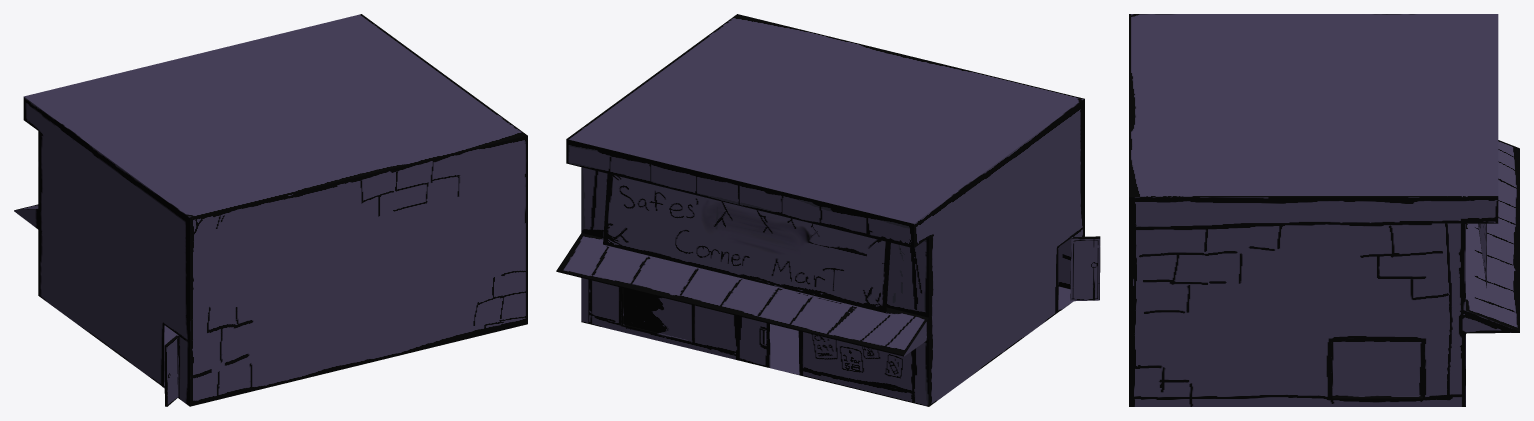
The model's file is Store.fbx.
The picture shows the model from 3 angles, left to right: view 1: azimuth 30°, elevation 25°; view 2: azimuth 150°, elevation 25°; view 3: azimuth 270°, elevation 25°; orthographic projection. The views are drawn at different scales.
Parts seen in each view (by area): view 1: corner store; view 2: corner store; view 3: corner store.
Boxes of the visible parts, x1=… form: corner store: x1=14, y1=14, x2=527, y2=406; corner store: x1=556, y1=14, x2=1100, y2=406; corner store: x1=1129, y1=14, x2=1519, y2=406.
Bounding box in the file's own units: 562 × 283 × 477.
